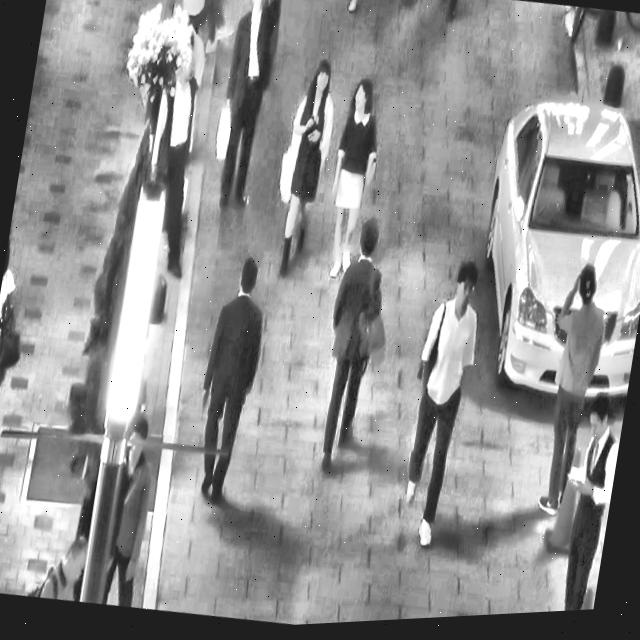light_vehicle: (454, 74, 640, 428)
